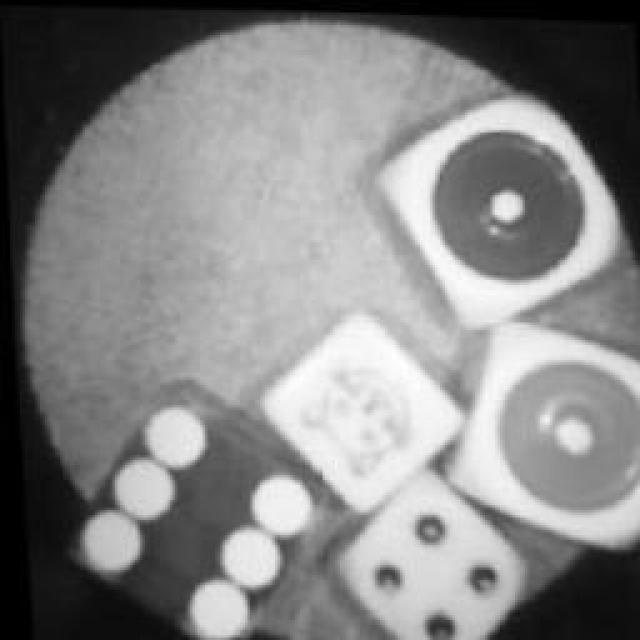dice_1: (390, 82, 628, 320), (445, 314, 640, 541)
dice_4: (330, 467, 525, 640)
dice_6: (54, 382, 336, 640)
